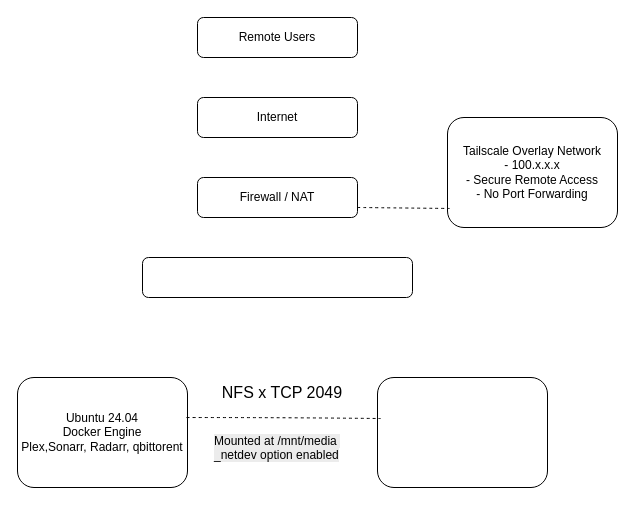
Image size: 635x505. Some labels were removed from this diagram. Here are the shapes that lost their labels. From the top down, the centre of each, then its label:
At (277,277): "Ubuntu Server (Docker + Stack)".
At (462,432): "DSM SHR NFS Server".
